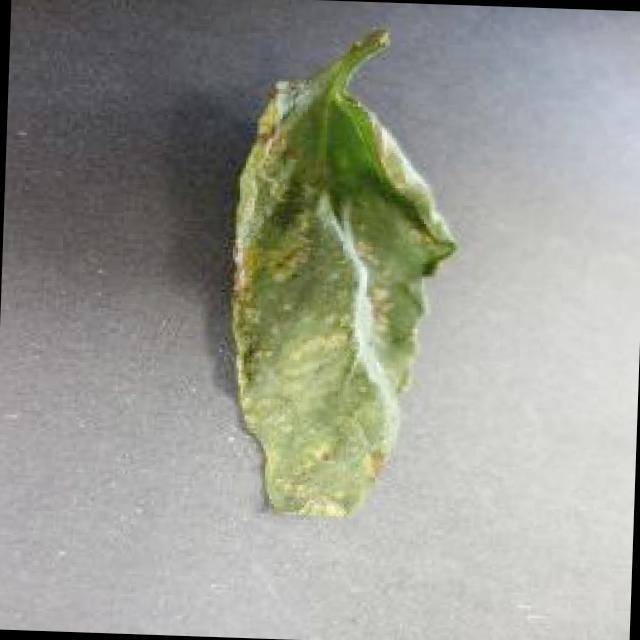Tomato bacterial spot leaf: (200, 14, 477, 536)
